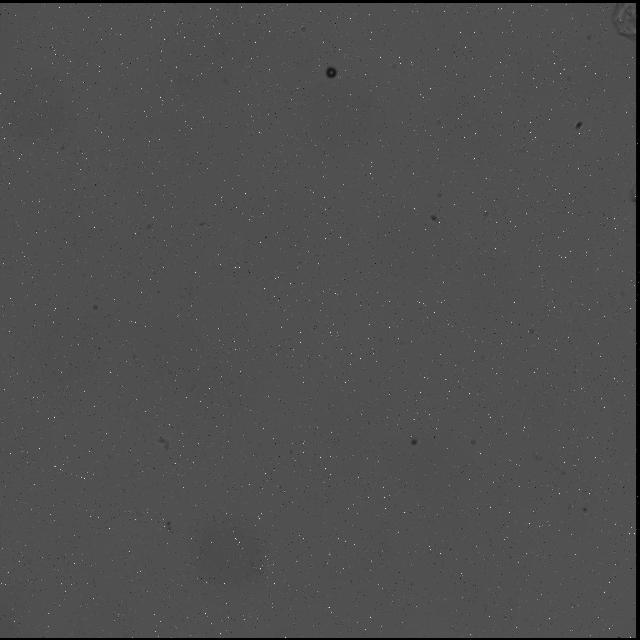microbeads: (324, 62, 340, 82)
